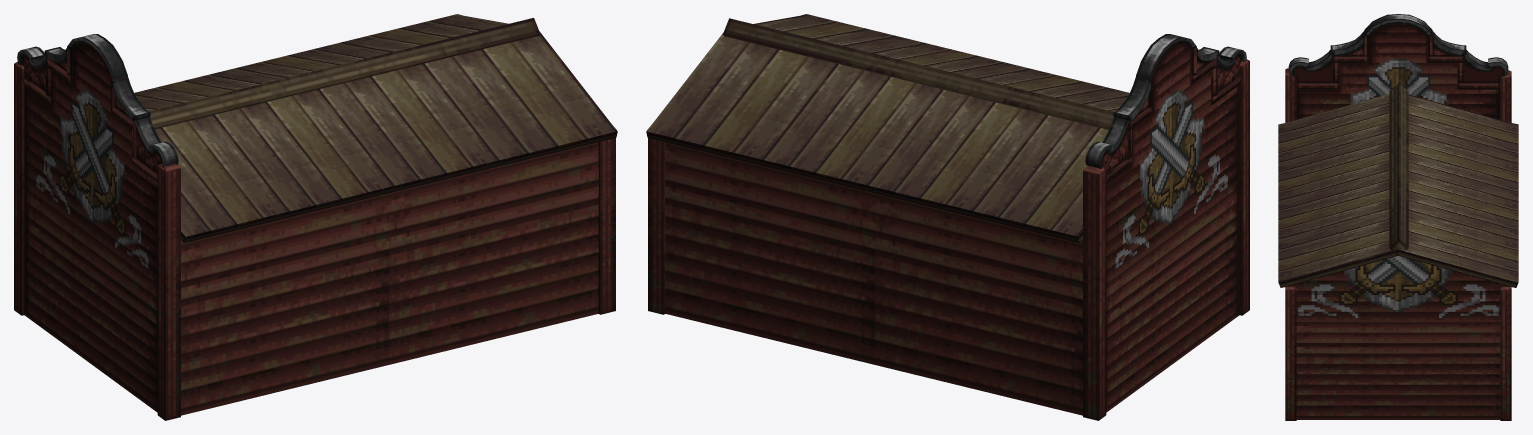
Rendered from EnvBdgMD_Wilderness_A_Outdoor_Shop_Weapon.FBX.
The picture shows the model from 3 angles, left to right: view 1: azimuth 30°, elevation 25°; view 2: azimuth 150°, elevation 25°; view 3: azimuth 270°, elevation 25°; orthographic projection. The views are drawn at different scales.
Parts seen in each view (by area): view 1: EnvBdgMD_Wilderness_A_Outdoor_Shop_Weapon; view 2: EnvBdgMD_Wilderness_A_Outdoor_Shop_Weapon; view 3: EnvBdgMD_Wilderness_A_Outdoor_Shop_Weapon.
Boxes of the visible parts, x1,y1,x2,y2 form: EnvBdgMD_Wilderness_A_Outdoor_Shop_Weapon: (14,14,617,420); EnvBdgMD_Wilderness_A_Outdoor_Shop_Weapon: (646,14,1249,420); EnvBdgMD_Wilderness_A_Outdoor_Shop_Weapon: (1278,14,1518,420).
Size of the model in its own units: 860 by 590 by 530.
1 material, 1 textured.
